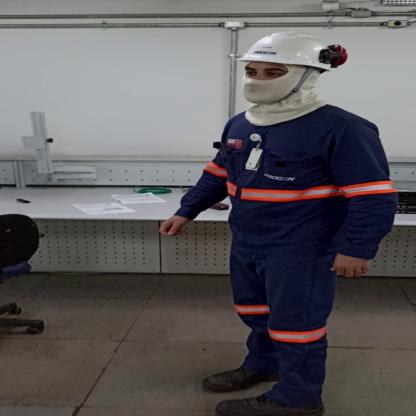Balaclava: (238, 61, 331, 127)
Capacete: (232, 30, 351, 72)
